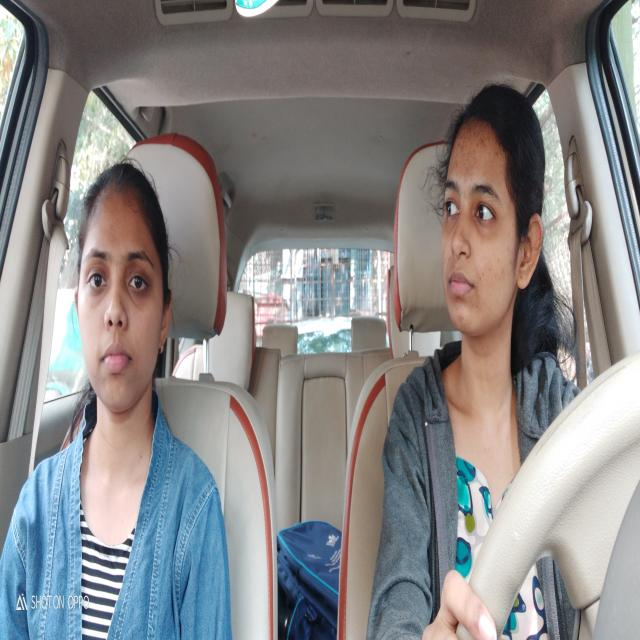LeftRight: (432, 81, 544, 340)
person: (72, 156, 176, 423)
